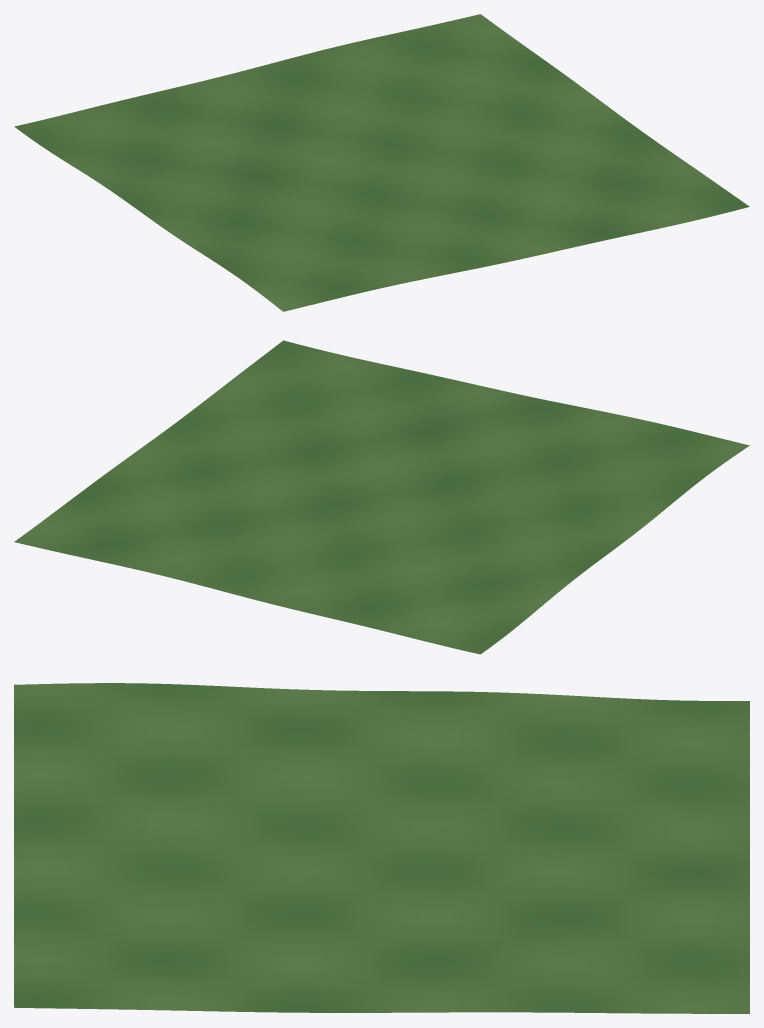
The model's file is chunk_5_4.glb.
3 renders of one model, top to bottom at view 1: azimuth 30°, elevation 25°; view 2: azimuth 150°, elevation 25°; view 3: azimuth 270°, elevation 25°, orthographic. The views are drawn at different scales.
Size of the model in its own units: 512 by 15.22 by 512.
